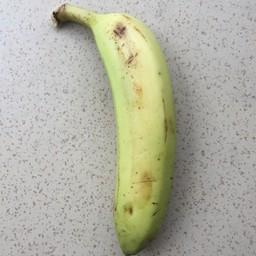Banana Ripe: (50, 3, 187, 256)
